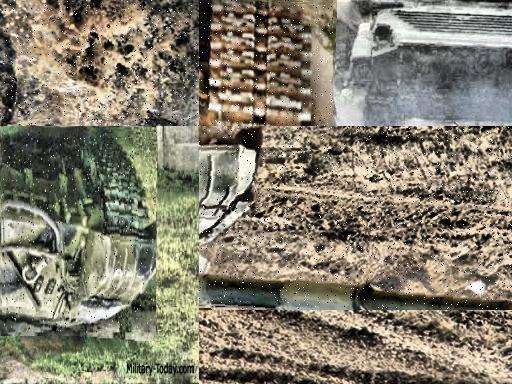tanks: (3, 134, 156, 333), (1, 1, 200, 127), (353, 1, 512, 127), (200, 1, 334, 127), (286, 1, 397, 69)
